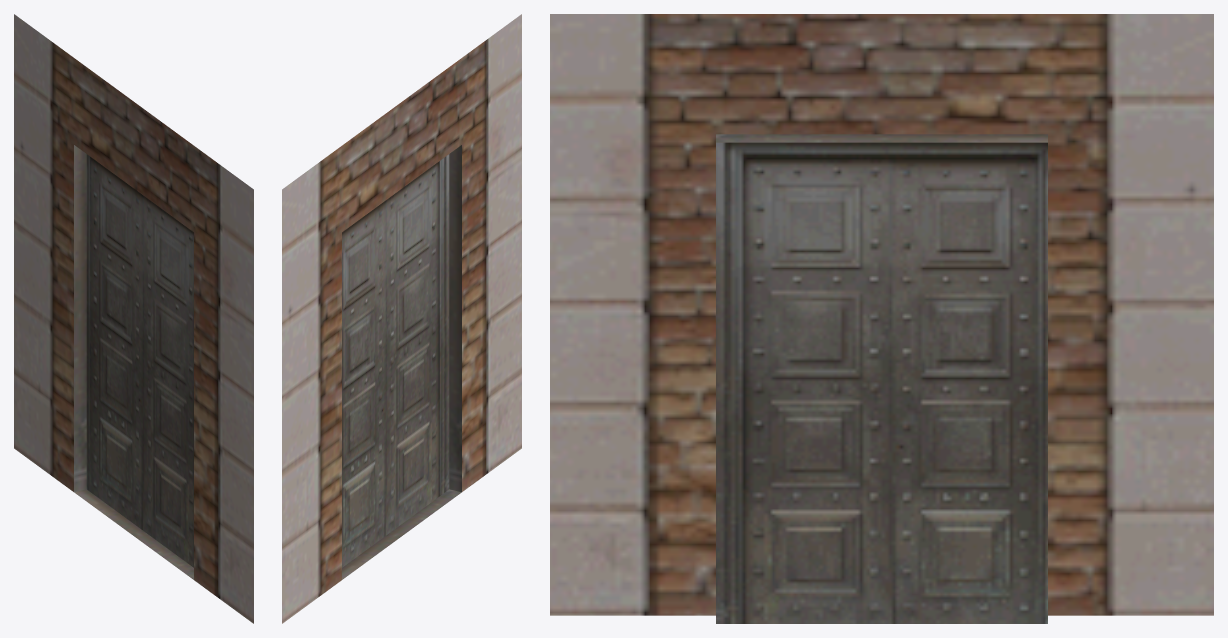
Rendered from Urban_FancyBrickWallMetalDoorIndent_Model.fbx.
The picture shows the model from 3 angles, left to right: view 1: azimuth 30°, elevation 25°; view 2: azimuth 150°, elevation 25°; view 3: azimuth 270°, elevation 25°; orthographic projection. The views are drawn at different scales.
Parts seen in each view (by area): view 1: Urban_FancyBrickWallMetalDoorIndent_Mesh; view 2: Urban_FancyBrickWallMetalDoorIndent_Mesh; view 3: Urban_FancyBrickWallMetalDoorIndent_Mesh.
Part boxes in pixels (box(x1,y1,x2,y2)): Urban_FancyBrickWallMetalDoorIndent_Mesh: box(14, 14, 253, 623); Urban_FancyBrickWallMetalDoorIndent_Mesh: box(282, 14, 521, 623); Urban_FancyBrickWallMetalDoorIndent_Mesh: box(550, 14, 1213, 623).
Bounding box in the file's own units: 0.0635 × 2.1 × 2.1.
